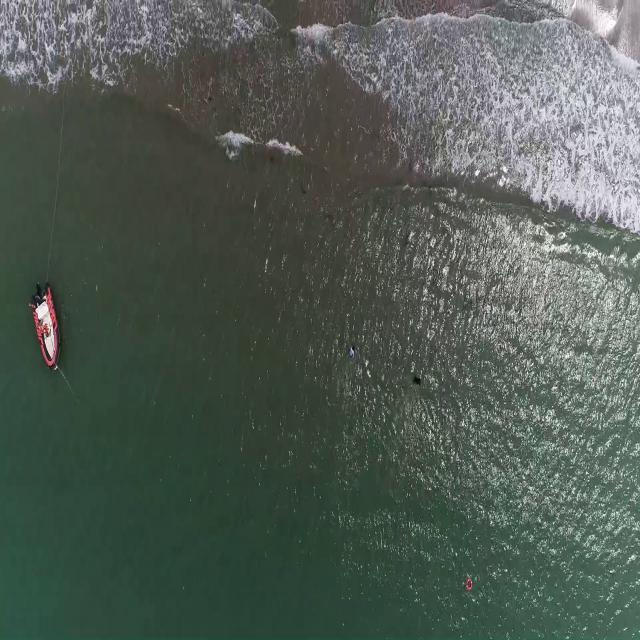boat: (31, 283, 61, 372)
life_buoy: (465, 576, 474, 592)
person: (348, 338, 359, 359), (412, 369, 422, 388)
